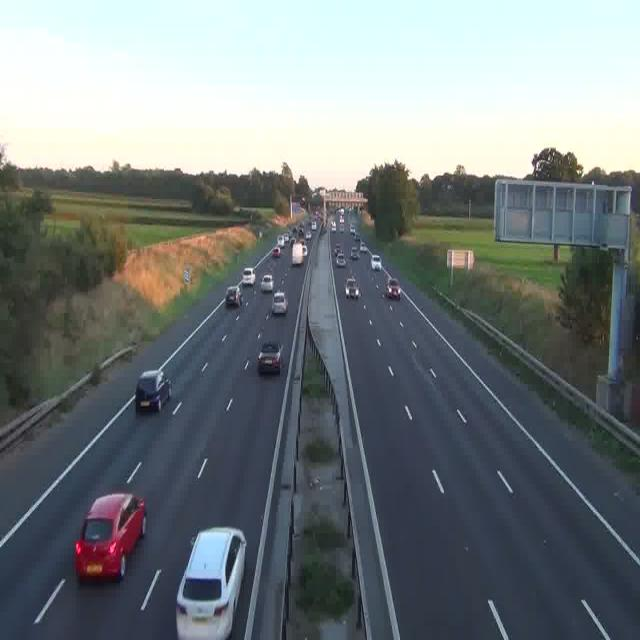car: (176, 527, 246, 640), (75, 492, 146, 582), (134, 370, 170, 413), (258, 340, 283, 374), (271, 292, 287, 314), (225, 284, 241, 306), (386, 277, 400, 298), (346, 277, 358, 298), (261, 274, 274, 292), (370, 253, 382, 272), (242, 270, 256, 286), (336, 252, 346, 266), (352, 247, 360, 261), (272, 245, 280, 258), (280, 234, 287, 245), (352, 226, 358, 237)
truck: (292, 240, 306, 266)
